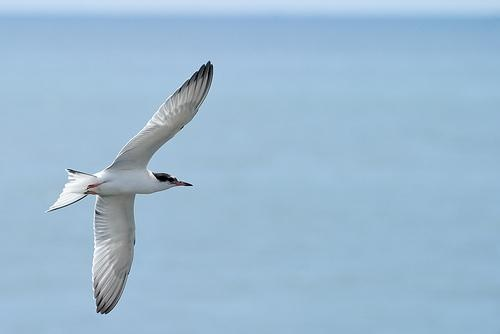bird: (47, 61, 215, 316)
